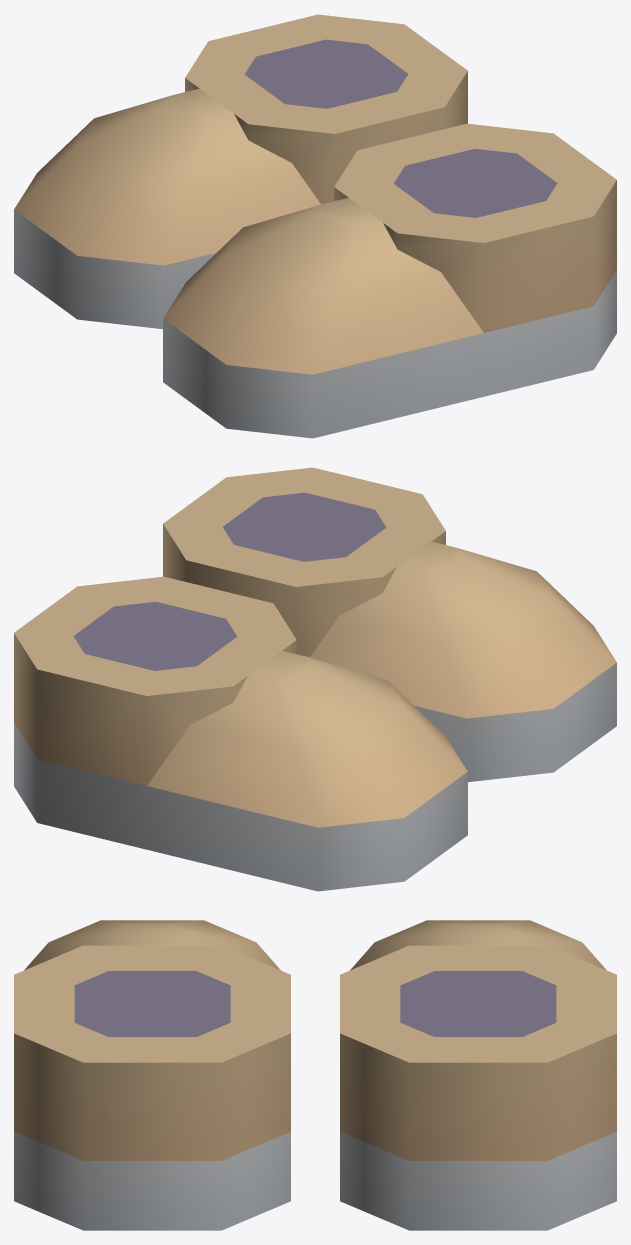
File: shoes-sneakers_0.glb
3 renders of one model, top to bottom at view 1: azimuth 30°, elevation 25°; view 2: azimuth 150°, elevation 25°; view 3: azimuth 270°, elevation 25°, orthographic. The views are drawn at different scales.
Parts seen in each view (by area): view 1: shoes-sneakers; view 2: shoes-sneakers; view 3: shoes-sneakers.
Part boxes in pixels (<box>): shoes-sneakers: <box>14,14,616,438</box>; shoes-sneakers: <box>14,467,616,891</box>; shoes-sneakers: <box>14,920,616,1230</box>.
Size of the model in its own units: 0.3025 by 0.1137 by 0.37.
